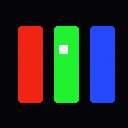1 square: (59, 45, 67, 53)
